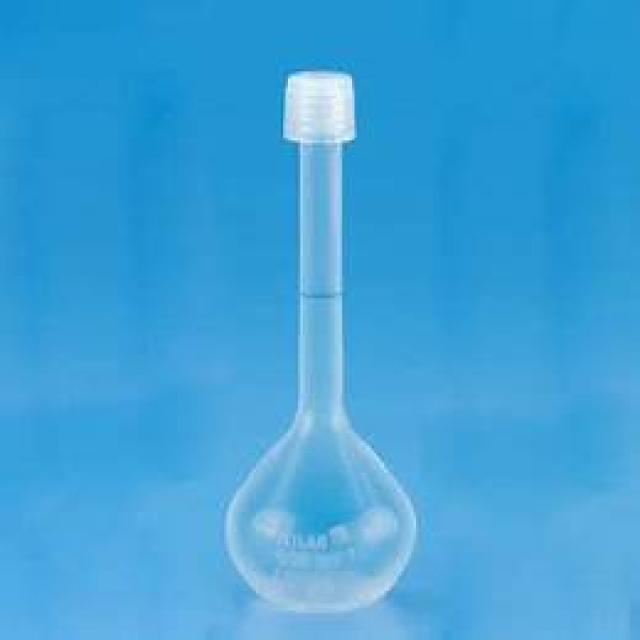Volumetric flask: (226, 57, 417, 607)
